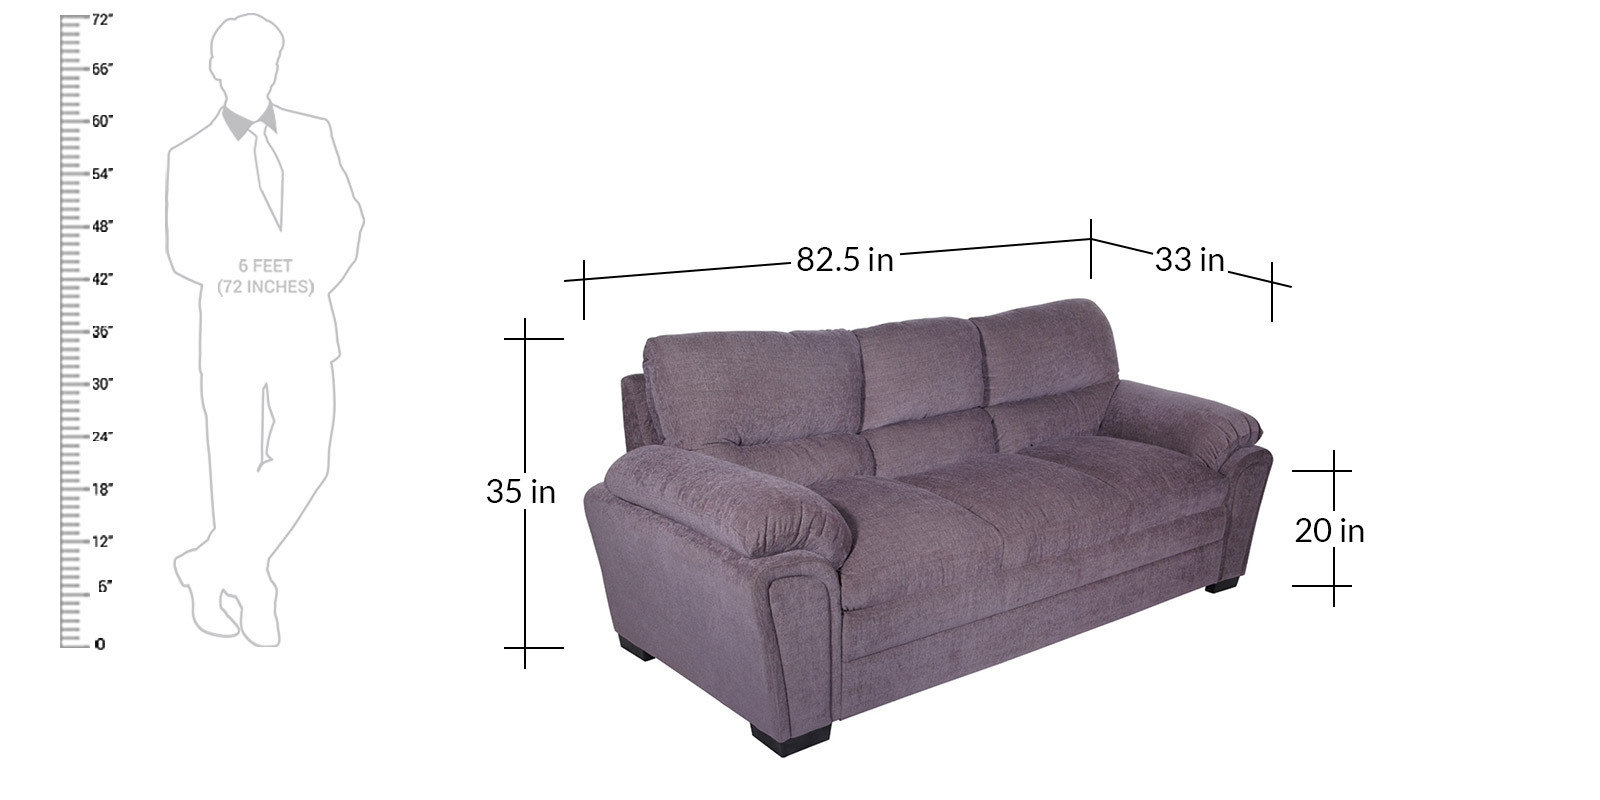Brass Three Seater Sofa in Dark Grey Colour by Furniture Mind: (599, 321, 1282, 763)
